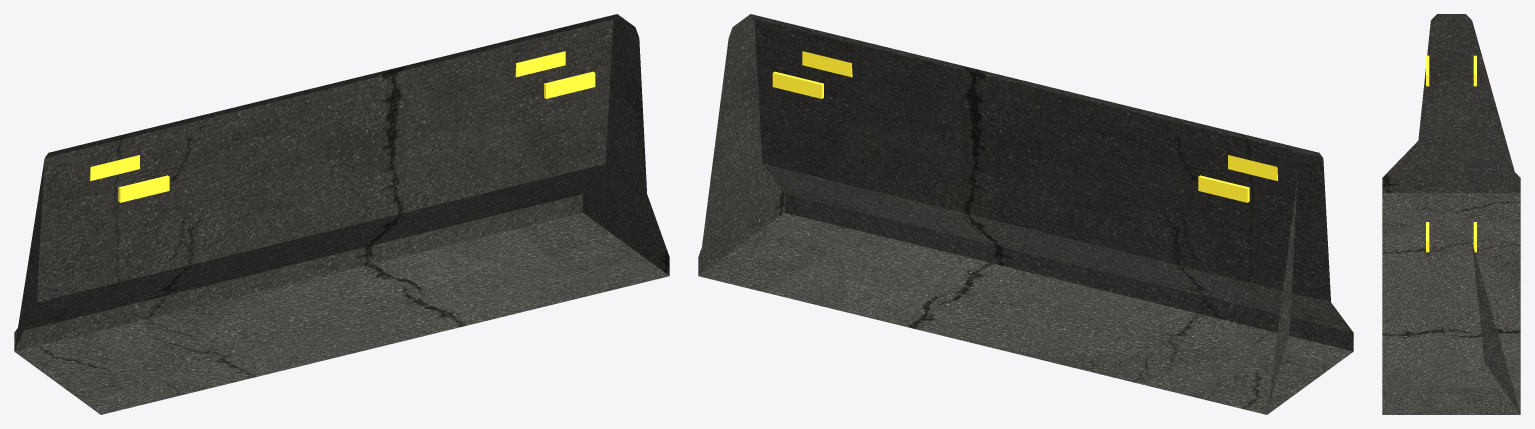
The model's file is concrete_barrier.glb.
3 renders of one model, left to right at view 1: azimuth 30°, elevation 25°; view 2: azimuth 150°, elevation 25°; view 3: azimuth 270°, elevation 25°, orthographic. The views are drawn at different scales.
Parts seen in each view (by area): view 1: ConcreteBarrier; view 2: ConcreteBarrier; view 3: ConcreteBarrier.
Part boxes in pixels (x1,y1,x2,y2): ConcreteBarrier: [14, 14, 669, 414]; ConcreteBarrier: [698, 14, 1353, 414]; ConcreteBarrier: [1382, 14, 1520, 414].
Bounding box in the file's own units: 2.54 × 0.955 × 0.67.
2 materials, 1 textured.
